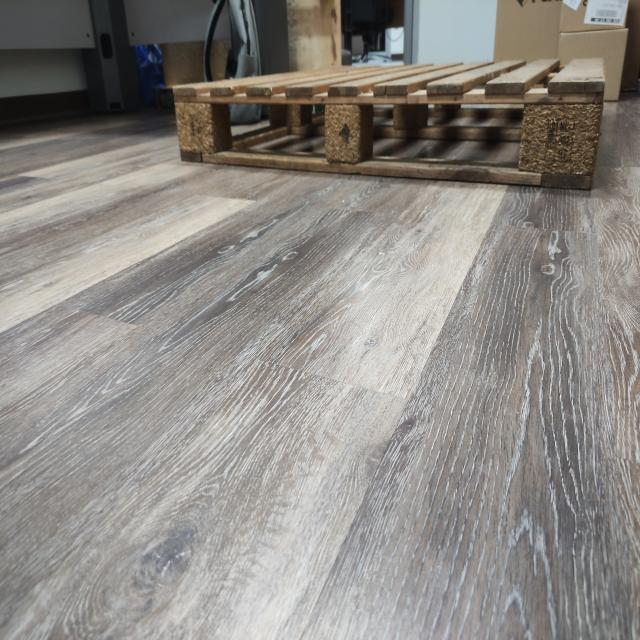block: (520, 90, 593, 190), (174, 83, 218, 166), (323, 93, 368, 172)
front: (170, 79, 598, 194)
